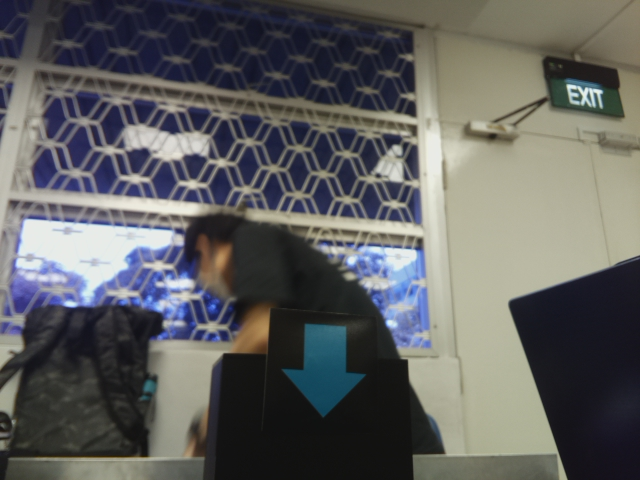down: (278, 320, 371, 426)
